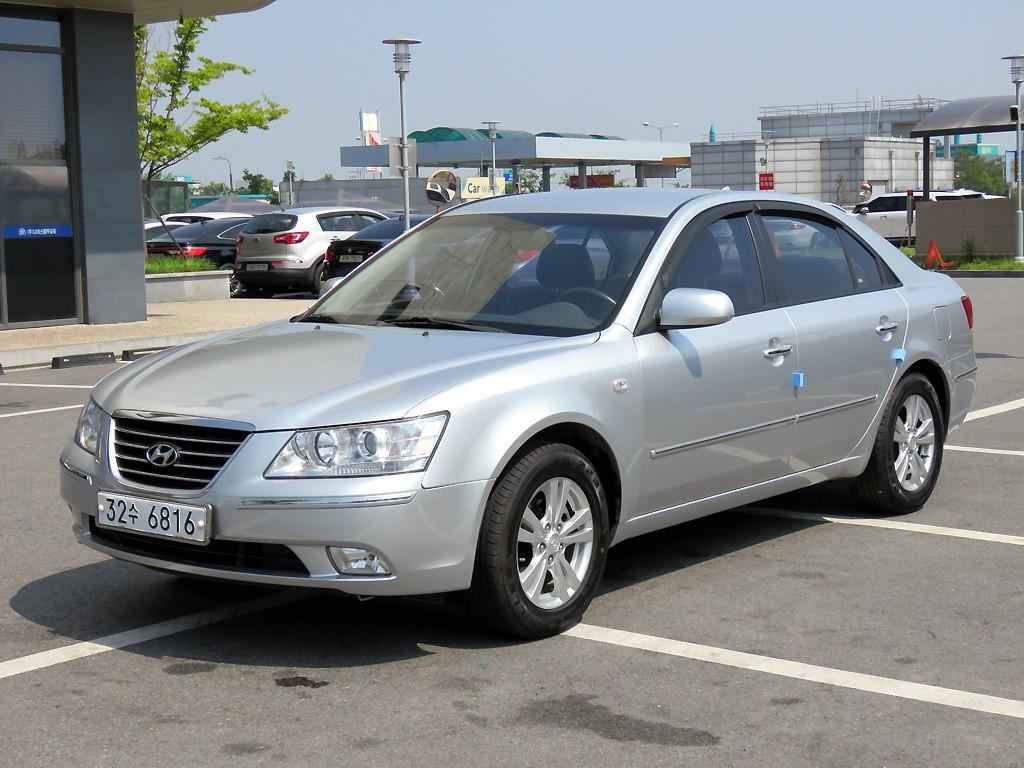plate: (98, 492, 206, 541)
